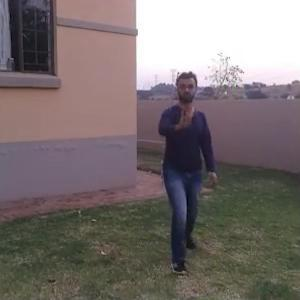takeoff-hand: (176, 103, 197, 132)
